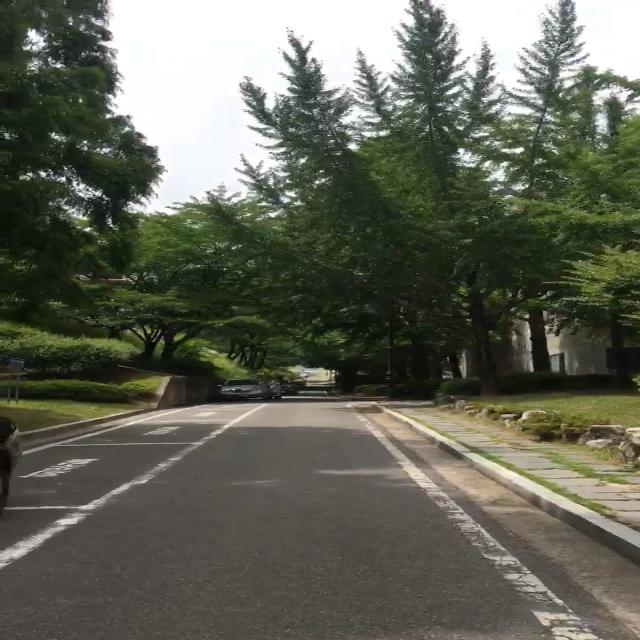obstacle: (218, 369, 310, 402), (0, 417, 23, 520)
road: (0, 404, 640, 640)
sidewalk: (394, 402, 640, 566)
